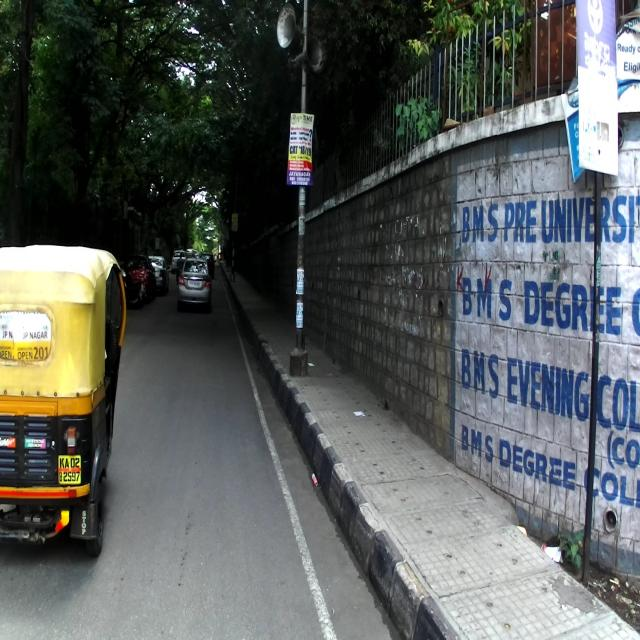autorickshaw: (0, 243, 127, 556)
car: (176, 251, 212, 312)
